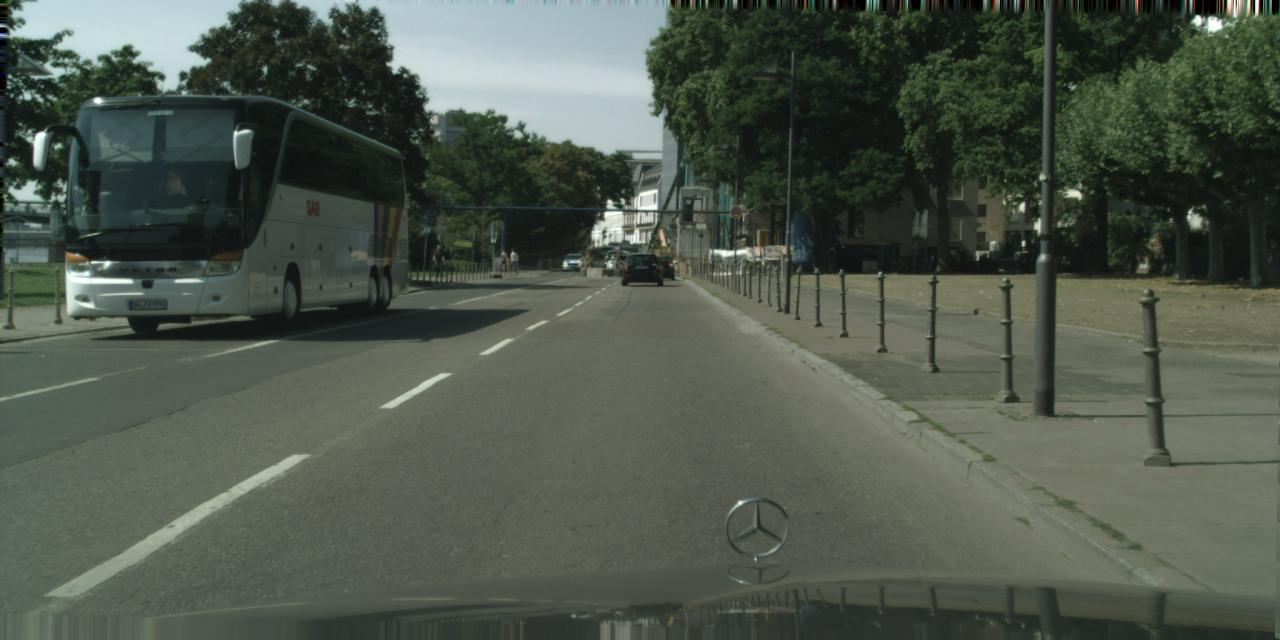ped: (432, 243, 443, 273), (508, 247, 518, 272), (498, 248, 507, 271)
